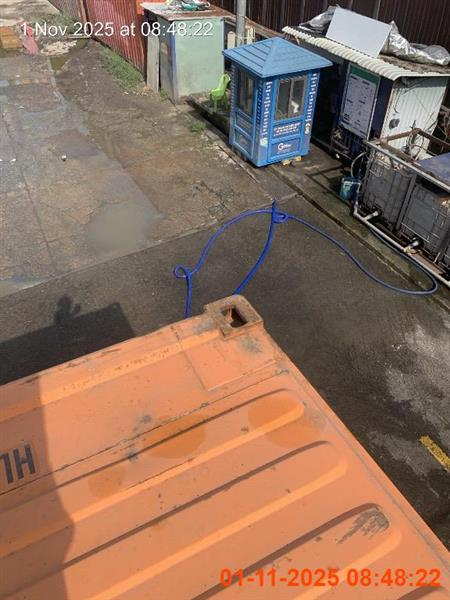broken: (0, 293, 449, 599)
